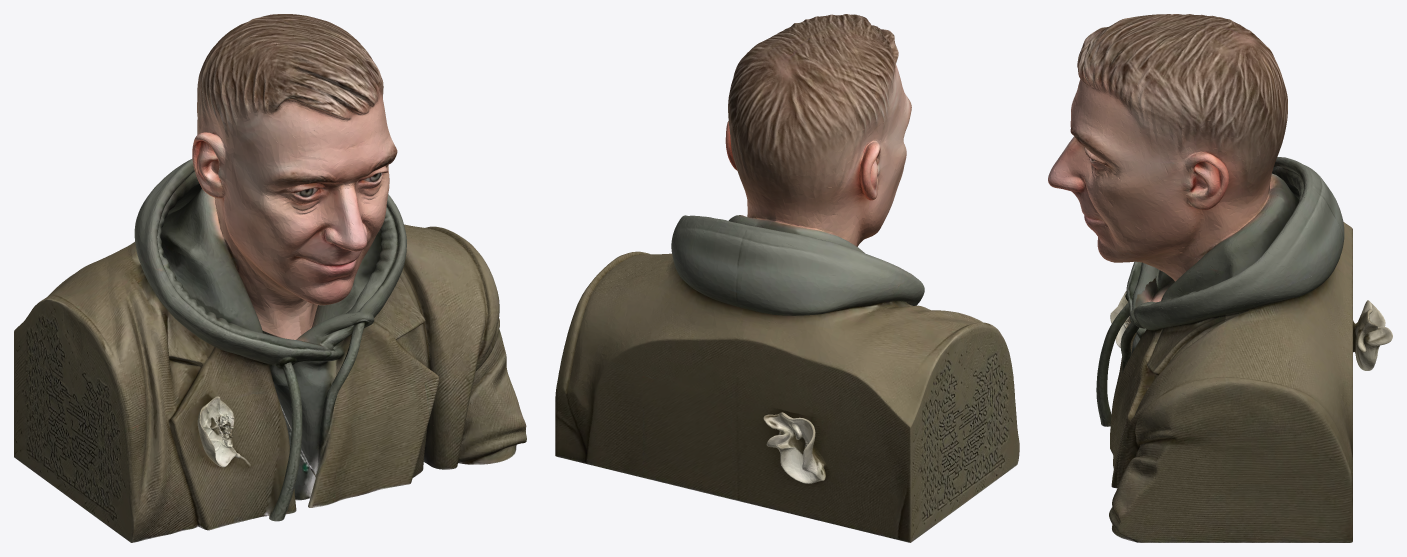
File: user.glb
The picture shows the model from 3 angles, left to right: view 1: azimuth 30°, elevation 25°; view 2: azimuth 150°, elevation 25°; view 3: azimuth 270°, elevation 25°; orthographic projection. The views are drawn at different scales.
Parts seen in each view (by area): view 1: aiprintgen_tmppqrztpxv.obj; view 2: aiprintgen_tmppqrztpxv.obj; view 3: aiprintgen_tmppqrztpxv.obj.
Boxes of the visible parts, left/top/right/bottom form: aiprintgen_tmppqrztpxv.obj: left=14, top=14, right=526, bottom=542; aiprintgen_tmppqrztpxv.obj: left=555, top=14, right=1019, bottom=542; aiprintgen_tmppqrztpxv.obj: left=1048, top=14, right=1392, bottom=542.
Bounding box in the file's own units: 1.34 × 1.45 × 1.07.
1 material, 1 textured.
